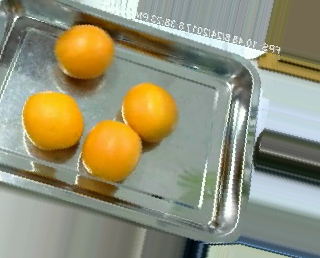Orange: (81, 119, 144, 182), (20, 89, 83, 149), (120, 82, 180, 143), (52, 22, 116, 79)
